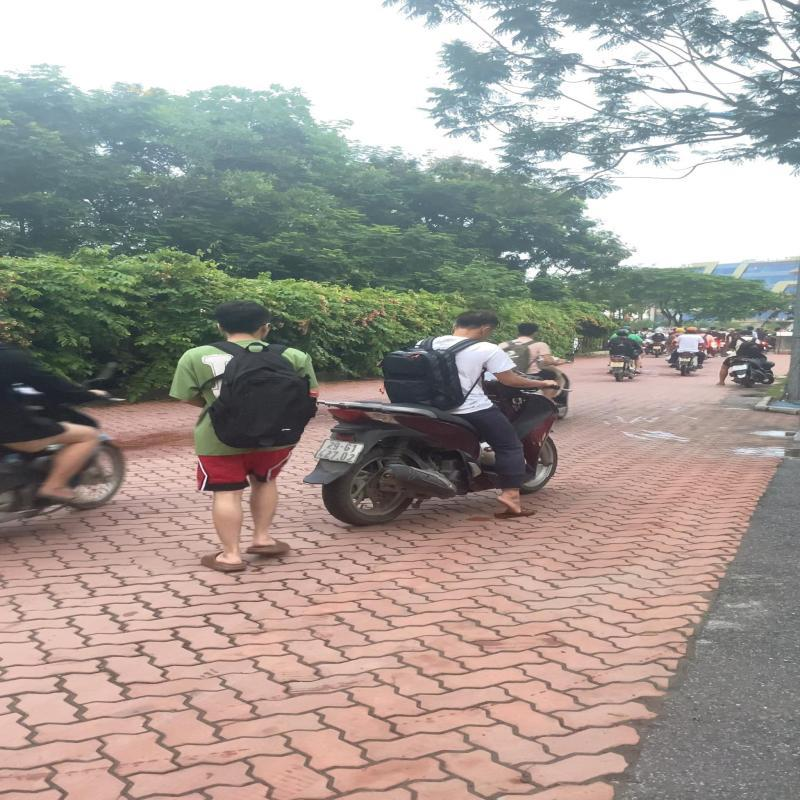licenseplate: (314, 438, 364, 464)
motorcyclist: (304, 307, 574, 530)
nohelmet: (450, 310, 500, 336)
